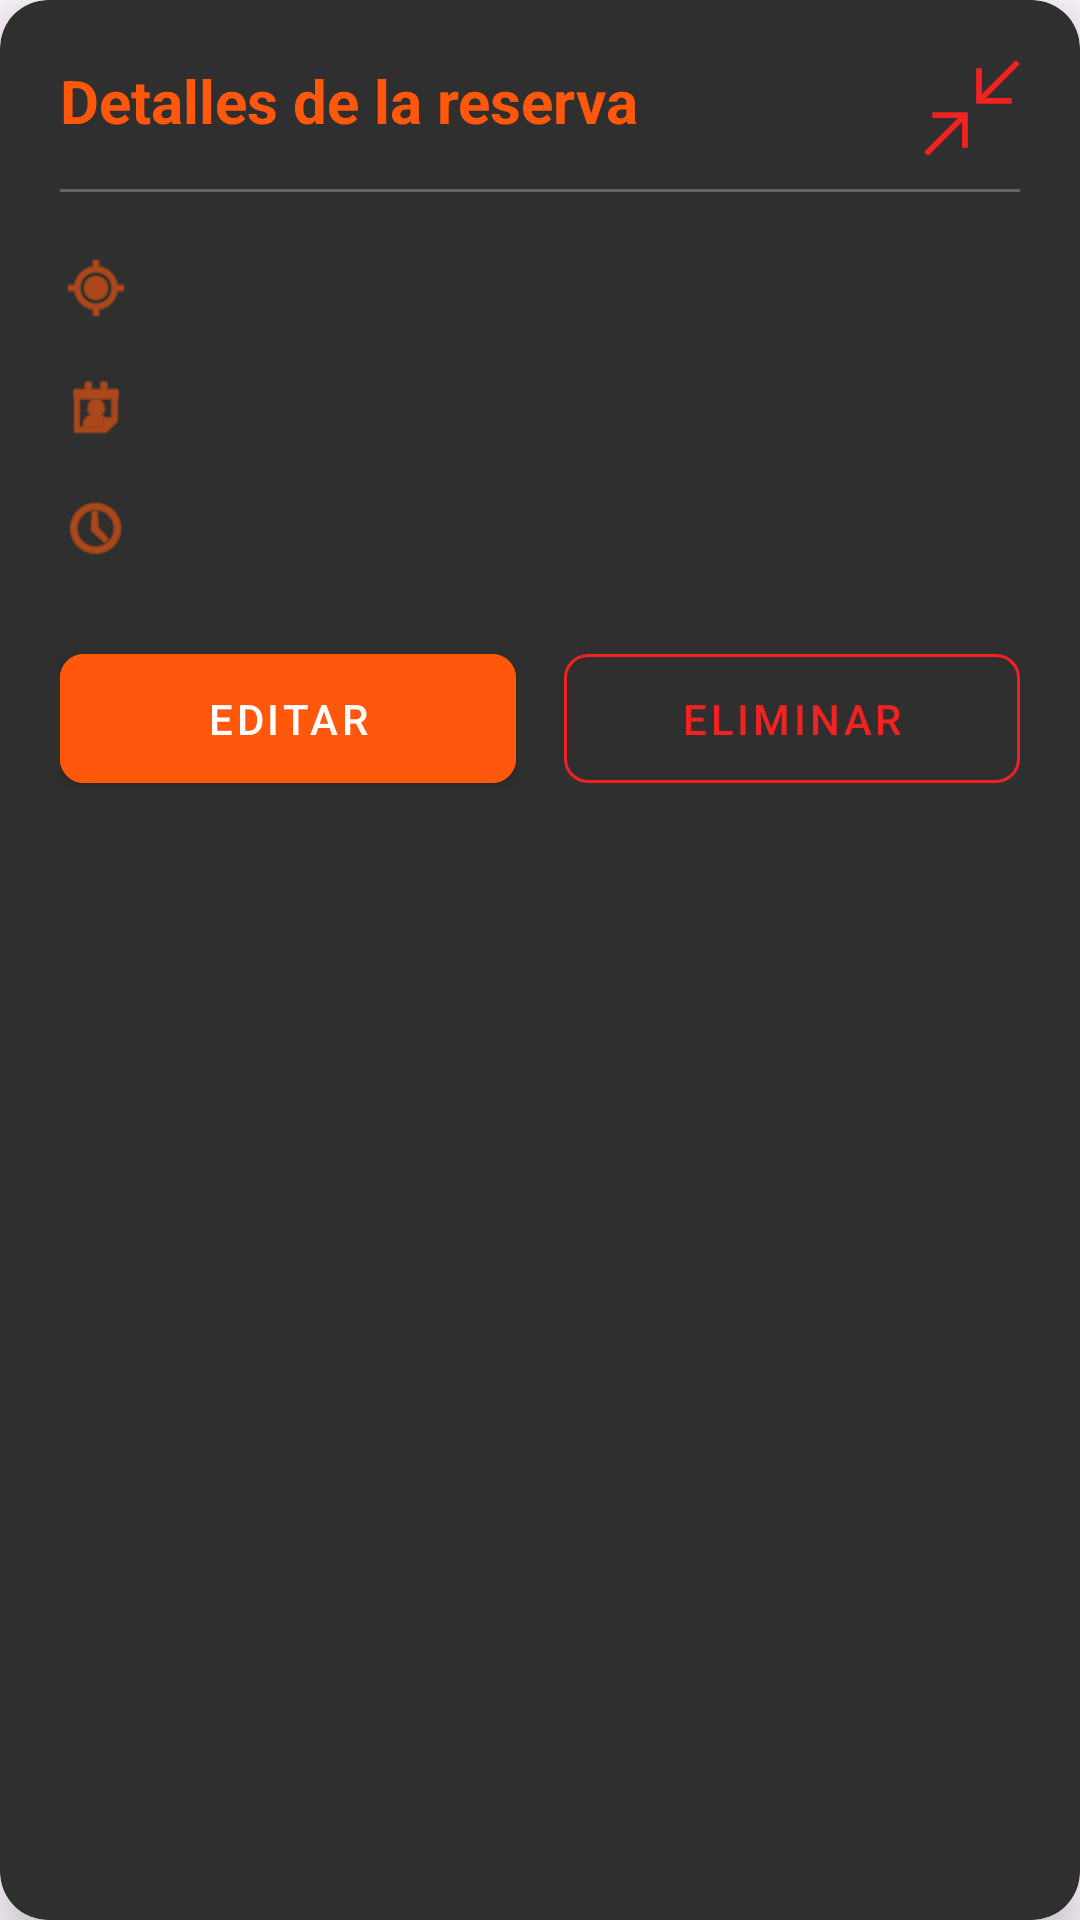

Icons on this 1080 × 1920 Android screen, each with its box as bbox=[x1, y1, x2, y2]:
calendar: bbox=[73, 381, 119, 434]
mylocation: bbox=[67, 259, 125, 317]
recent history: bbox=[70, 502, 122, 554]
